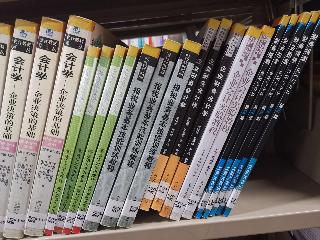book-spine: (214, 10, 320, 216), (207, 11, 312, 217), (199, 12, 300, 220), (193, 13, 291, 220), (220, 18, 320, 220), (167, 26, 262, 223), (181, 26, 275, 221), (157, 23, 247, 218), (114, 38, 203, 230), (19, 15, 94, 237), (137, 18, 221, 211), (150, 17, 233, 212), (100, 38, 181, 228), (81, 43, 161, 233), (0, 15, 66, 240), (58, 44, 127, 237), (70, 44, 139, 234), (39, 45, 100, 236), (52, 45, 112, 233), (0, 18, 38, 240)
